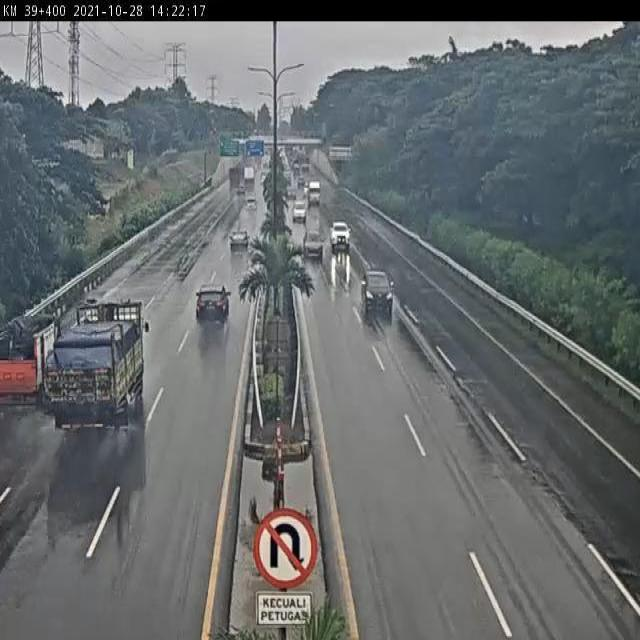ARABA: (357, 264, 396, 317), (191, 281, 231, 328), (301, 227, 326, 261), (328, 218, 352, 250), (229, 228, 250, 256)
KAMYONET: (0, 316, 61, 417)
TIR: (47, 300, 149, 428)
